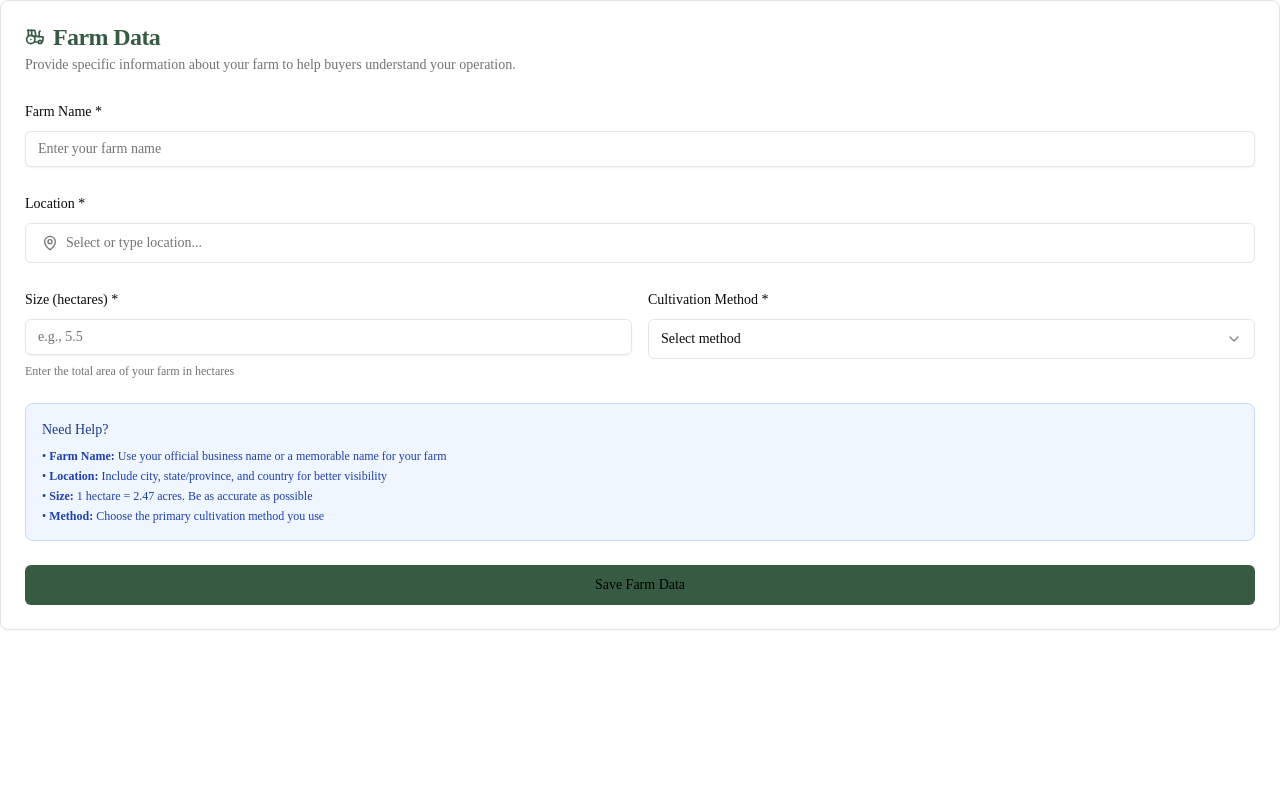
Test case: FarmDataSection › validates maximum size limit
In the number field labelled "Size (hectares) *": [328, 337] box [25,319,632,355], type "15000"
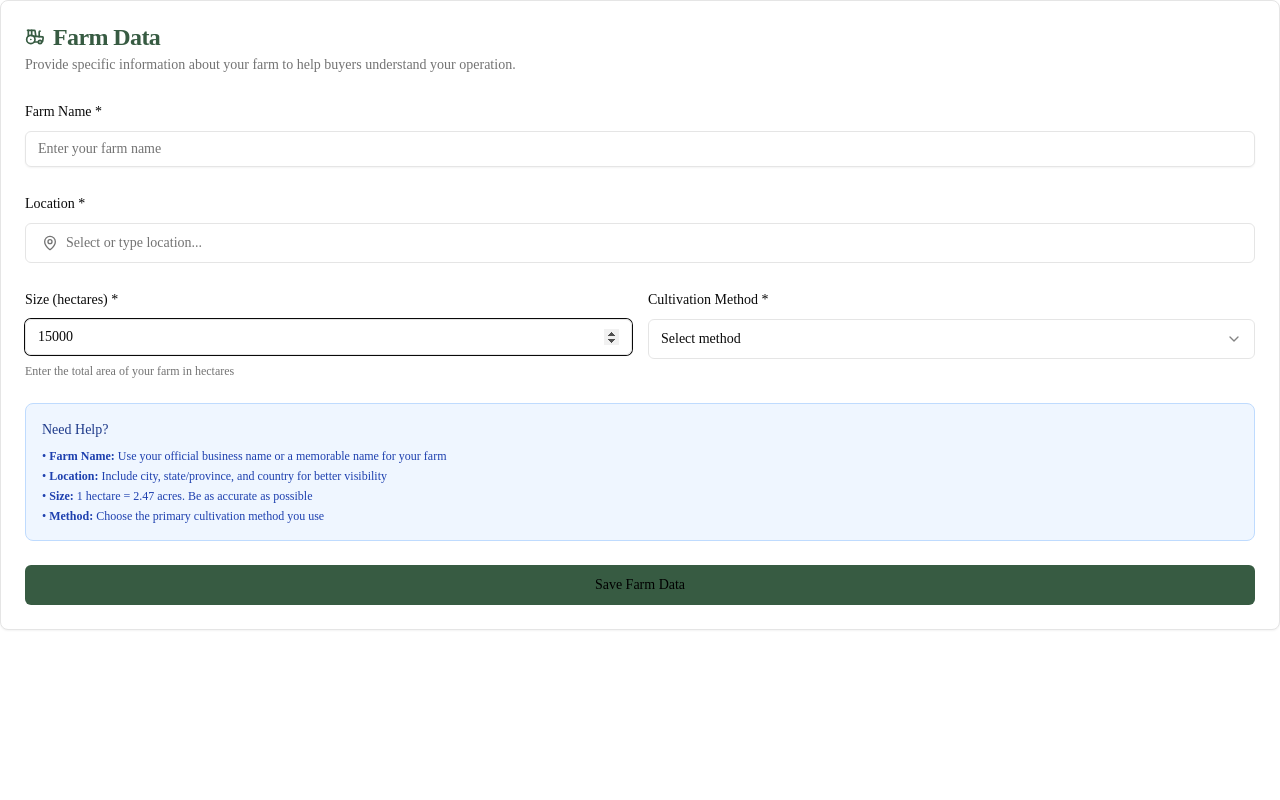
Click the button "Save Farm Data": [640, 585] box [25,565,1255,605]
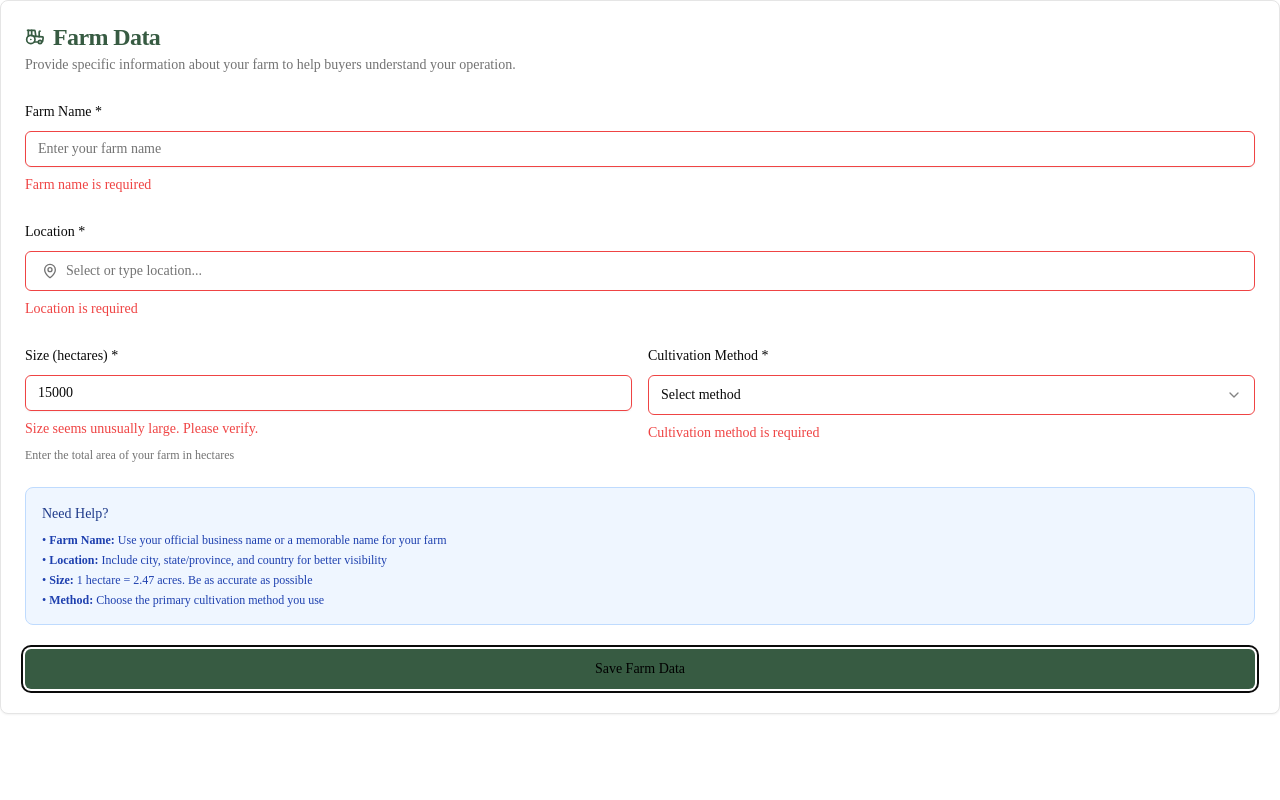
expect the text "Size seems unusually large. Please verify." is shown: met, box [25,421,258,436]
